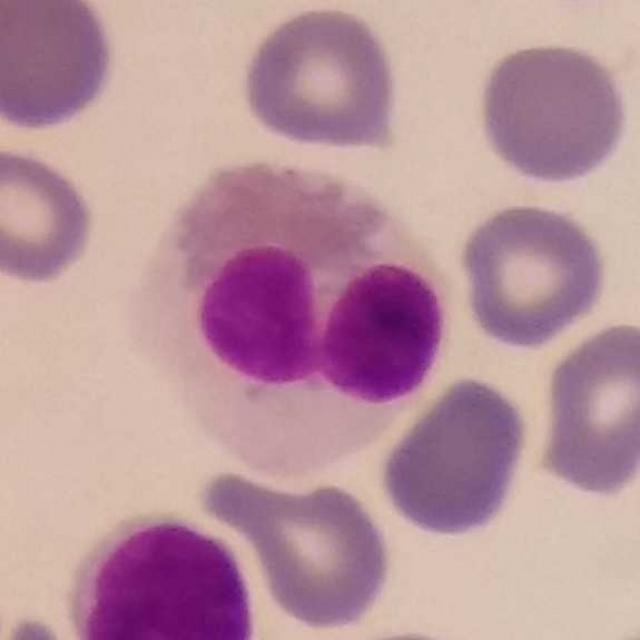Eosinophil: (129, 156, 454, 486)
Monocyte: (64, 507, 262, 639)
RBC: (202, 468, 398, 634), (375, 371, 534, 542), (236, 1, 406, 157), (454, 198, 613, 353), (472, 37, 633, 188), (531, 315, 640, 502), (0, 0, 120, 135), (0, 140, 101, 287), (2, 613, 67, 640)
